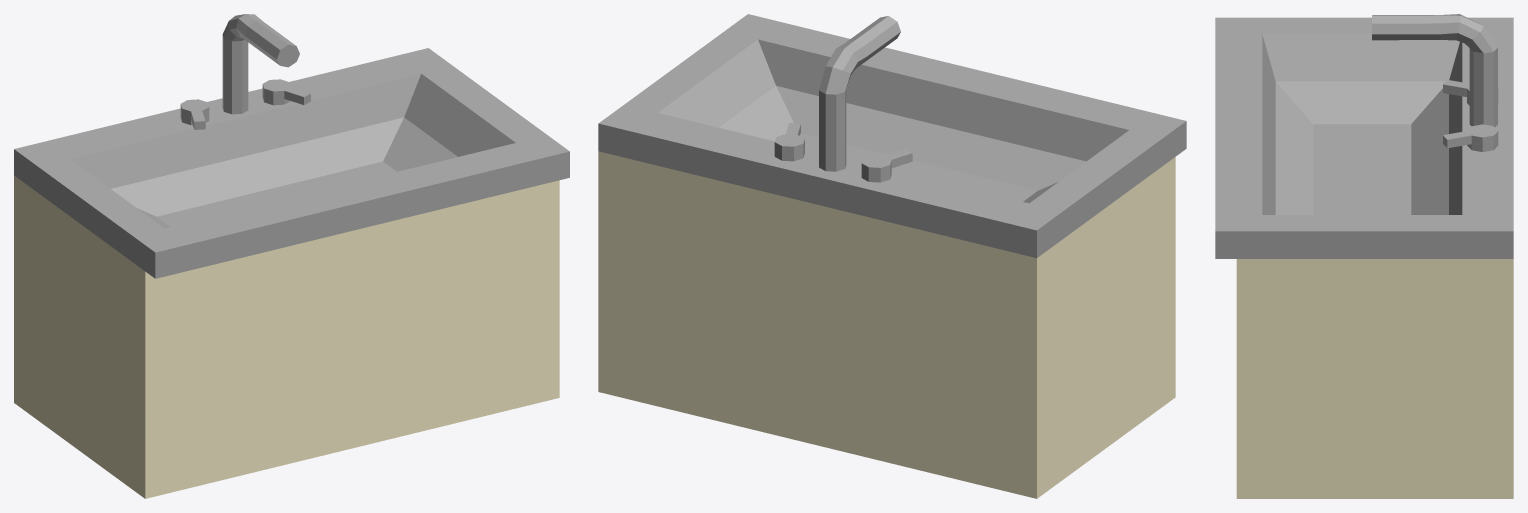
The model's file is spüle.fbx.
3 renders of one model, left to right at view 1: azimuth 30°, elevation 25°; view 2: azimuth 150°, elevation 25°; view 3: azimuth 270°, elevation 25°, orthographic. The views are drawn at different scales.
Visible parts, largest first — view 1: Cube, Cylinder, Cylinder.007, Cylinder.001; view 2: Cube, Cylinder, Cylinder.001, Cylinder.007; view 3: Cube, Cylinder, Cylinder.007, Cylinder.001.
Boxes of the visible parts, <box> form: Cube: <box>14,48,569,498</box>; Cylinder: <box>222,14,299,114</box>; Cylinder.007: <box>262,79,310,105</box>; Cylinder.001: <box>180,99,209,129</box>; Cube: <box>598,14,1186,498</box>; Cylinder: <box>819,16,900,171</box>; Cylinder.001: <box>861,149,912,182</box>; Cylinder.007: <box>774,123,804,161</box>; Cube: <box>1215,17,1513,498</box>; Cylinder: <box>1372,14,1497,126</box>; Cylinder.007: <box>1443,124,1498,151</box>; Cylinder.001: <box>1443,80,1498,105</box>.
Size of the model in its own units: 365 by 300 by 216.
